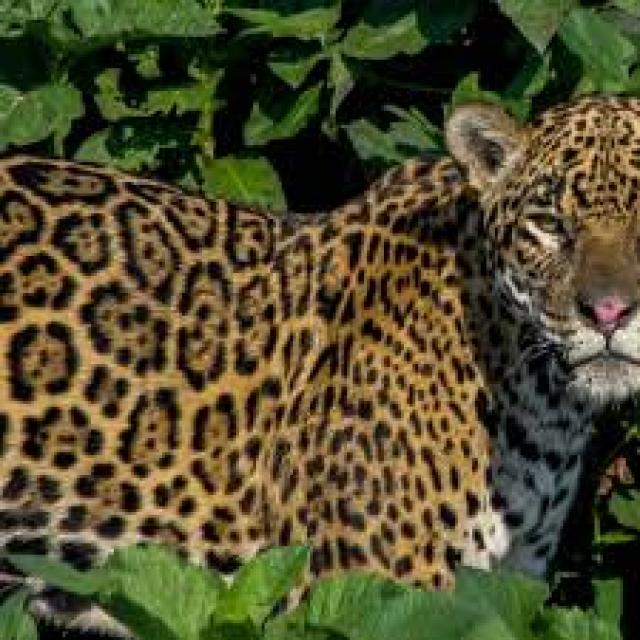Jaguar: (0, 74, 640, 597)
